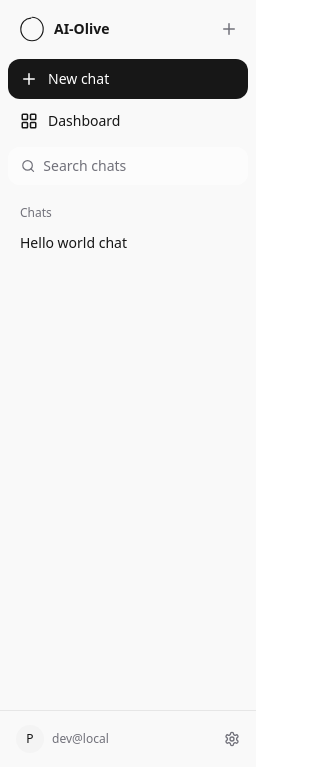
Sidebar › filters chats by the search box
Expected: the button "Hello world chat" is shown, [8,225,248,261]
Type "nomatch" into the field labelled "Search chats". click: (139, 166)
box: [43,156,235,176]
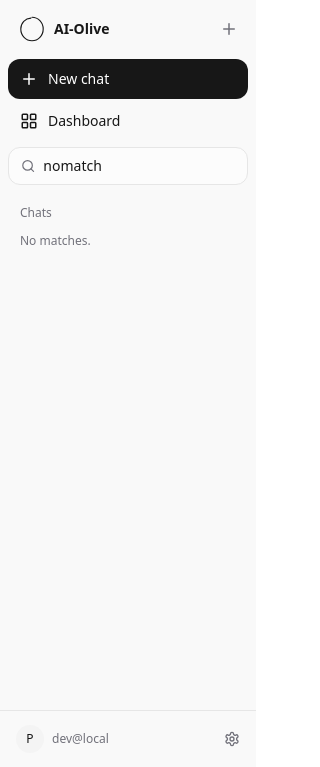
Result: the button "Hello world chat" is gone
Result: the text "No matches." is shown at [20,232,91,249]
